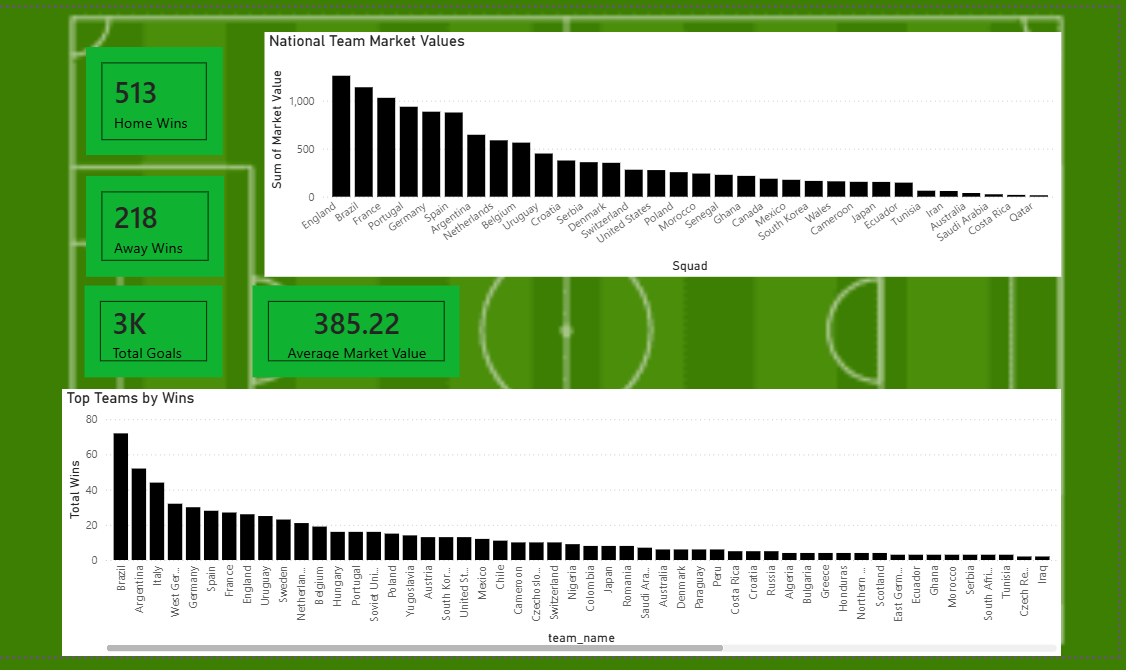

The page's visual inventory and layout, read from the dashboard file:
{"tool":"powerbi","page":{"name":"Team Performance Analysis","canvas":[1280,720],"ordinal":1},"visuals":[{"type":"cardVisual","fields":{"Data":["DAX_Measures.Total Goals"]},"box":[131.7,308.3,153.3,101.7],"z":0},{"type":"cardVisual","fields":{"Data":["DAX_Measures.Average Market Value"]},"box":[318.3,308.3,230,101.7],"z":1000},{"type":"cardVisual","fields":{"Data":["DAX_Measures.Home Wins"]},"box":[133.3,43.3,151.7,120],"z":2000},{"type":"cardVisual","fields":{"Data":["DAX_Measures.Away Wins"]},"box":[133.3,186.7,153.3,111.7],"z":3000},{"type":"clusteredColumnChart","title":"Top Teams by Wins","fields":{"Category":["teams.team_name"],"Y":["DAX_Measures.Total Wins"]},"box":[106.7,423.3,1110,296.7],"z":4000},{"type":"clusteredColumnChart","title":"National Team Market Values","fields":{"Category":["WC_2022_market.Squad"],"Y":["Sum(WC_2022_market.Market Value)"]},"box":[331.7,26.7,885,271.7],"z":5000}]}

Visuals, with their boxes on the page's 1280x720 design canvas (x1, y1, x2, y2). These are canvas units, not pixel positions in the 1126x670 screenshot, which may show the page scaled, cropped or inside an application window:
cardVisual - DAX_Measures.Total Goals: 132/308/285/410
cardVisual - DAX_Measures.Average Market Value: 318/308/548/410
cardVisual - DAX_Measures.Home Wins: 133/43/285/163
cardVisual - DAX_Measures.Away Wins: 133/187/287/298
"Top Teams by Wins" clusteredColumnChart: 107/423/1217/720
"National Team Market Values" clusteredColumnChart: 332/27/1217/298
